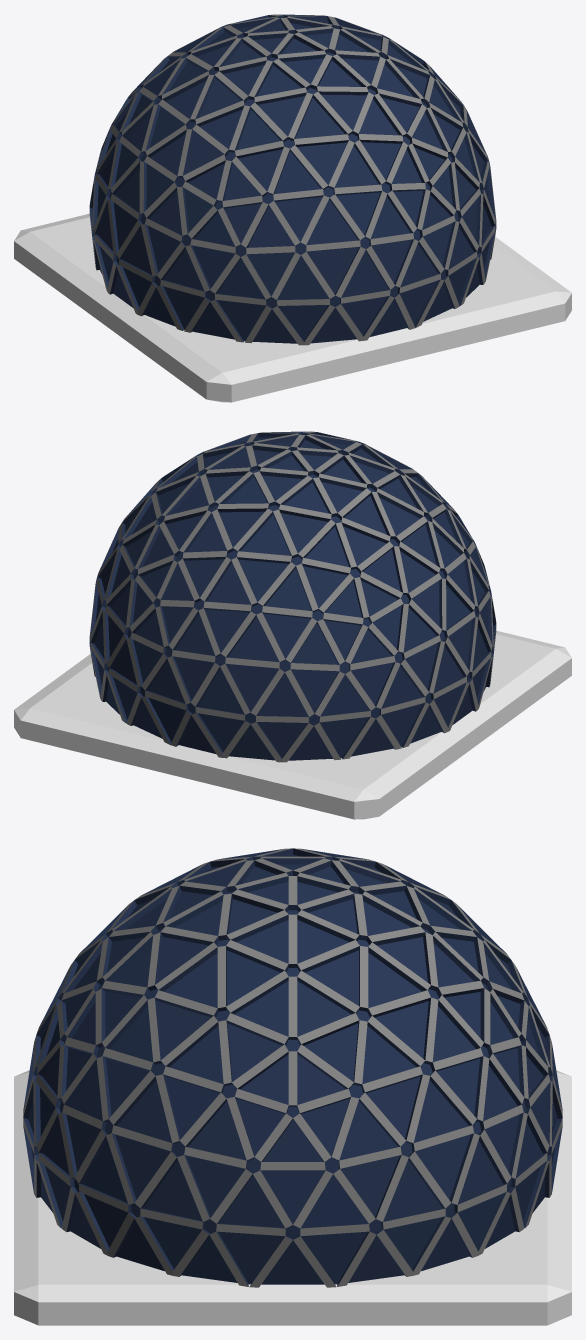
File: biodome.fbx
The picture shows the model from 3 angles, top to bottom: view 1: azimuth 30°, elevation 25°; view 2: azimuth 150°, elevation 25°; view 3: azimuth 270°, elevation 25°; orthographic projection. The views are drawn at different scales.
Visible parts, largest first — view 1: Biodome, Base; view 2: Biodome, Base; view 3: Biodome, Base.
Part boxes in pixels (left/top/right/bottom): Biodome: left=89, top=14, right=496, bottom=345; Base: left=14, top=213, right=571, bottom=402; Biodome: left=89, top=431, right=496, bottom=762; Base: left=14, top=630, right=571, bottom=819; Biodome: left=23, top=848, right=562, bottom=1287; Base: left=14, top=1070, right=571, bottom=1325.
Size of the model in its own units: 200 by 136 by 200.
